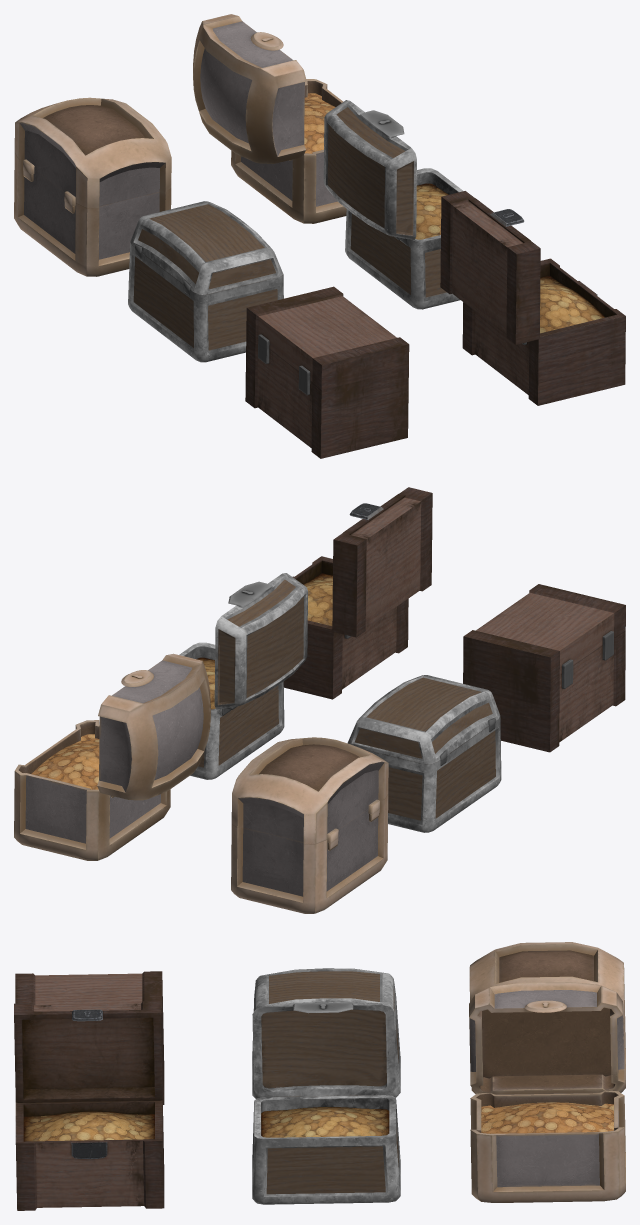
File: treasure_chests_asset_pack.glb
3 views of the same model, one above another, from view 1: azimuth 30°, elevation 25°; view 2: azimuth 150°, elevation 25°; view 3: azimuth 270°, elevation 25° (orthographic). The views are drawn at different scales.
Visible parts, largest first — view 1: Chest1_open, Chest3_closed, Chest1_closed, Chest3_open, Chest2_closed, Chest2_open; view 2: Chest3_open, Chest3_closed, Chest1_closed, Chest1_open, Chest2_closed, Chest2_open; view 3: Chest3_open, Chest1_open, Chest2_open, Chest3_closed, Chest2_closed, Chest1_closed.
Boxes of the visible parts, <box> form: Chest1_open: <box>440,191,625,405</box>; Chest3_closed: <box>14,97,171,276</box>; Chest1_closed: <box>245,286,409,458</box>; Chest3_open: <box>193,14,346,223</box>; Chest2_closed: <box>128,201,283,362</box>; Chest2_open: <box>323,100,463,309</box>; Chest3_open: <box>14,653,210,860</box>; Chest3_closed: <box>231,737,388,913</box>; Chest1_closed: <box>463,584,625,752</box>; Chest1_open: <box>283,487,432,699</box>; Chest2_closed: <box>347,675,501,832</box>; Chest2_open: <box>179,573,307,779</box>; Chest3_open: <box>469,982,625,1202</box>; Chest1_open: <box>14,1001,164,1210</box>; Chest2_open: <box>252,1001,400,1204</box>; Chest3_closed: <box>469,942,625,1094</box>; Chest2_closed: <box>252,968,400,1098</box>; Chest1_closed: <box>15,971,164,1104</box>.
Bounding box in the file's own units: 10.06 × 5.33 × 17.68.
Materials: 1 (1 with a texture image).
